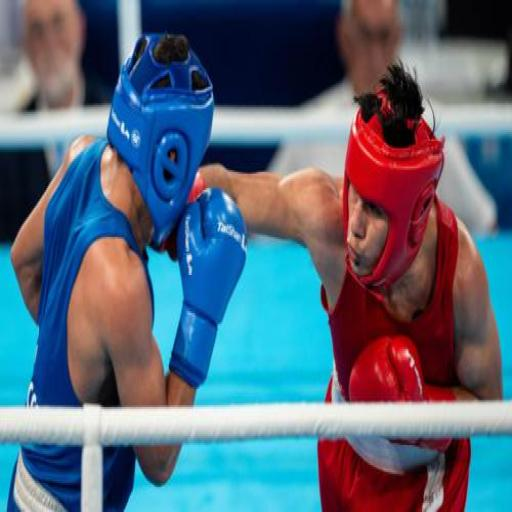boxing: (178, 58, 503, 510), (1, 29, 248, 510)
